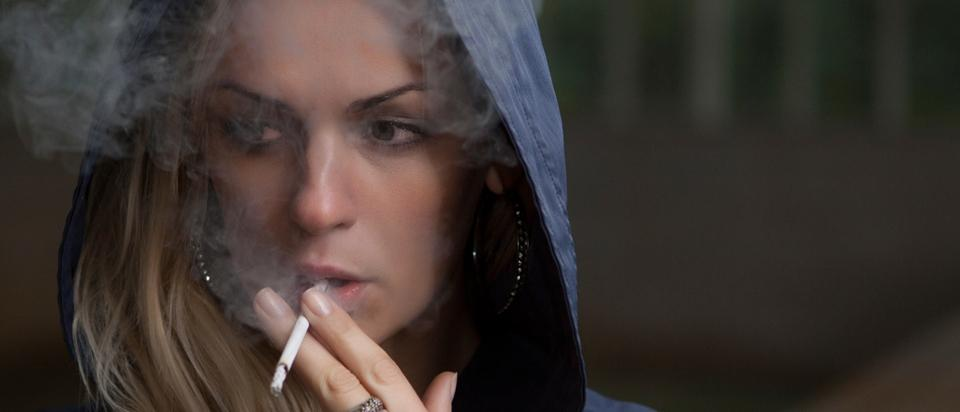smoke: (270, 276, 331, 398)
